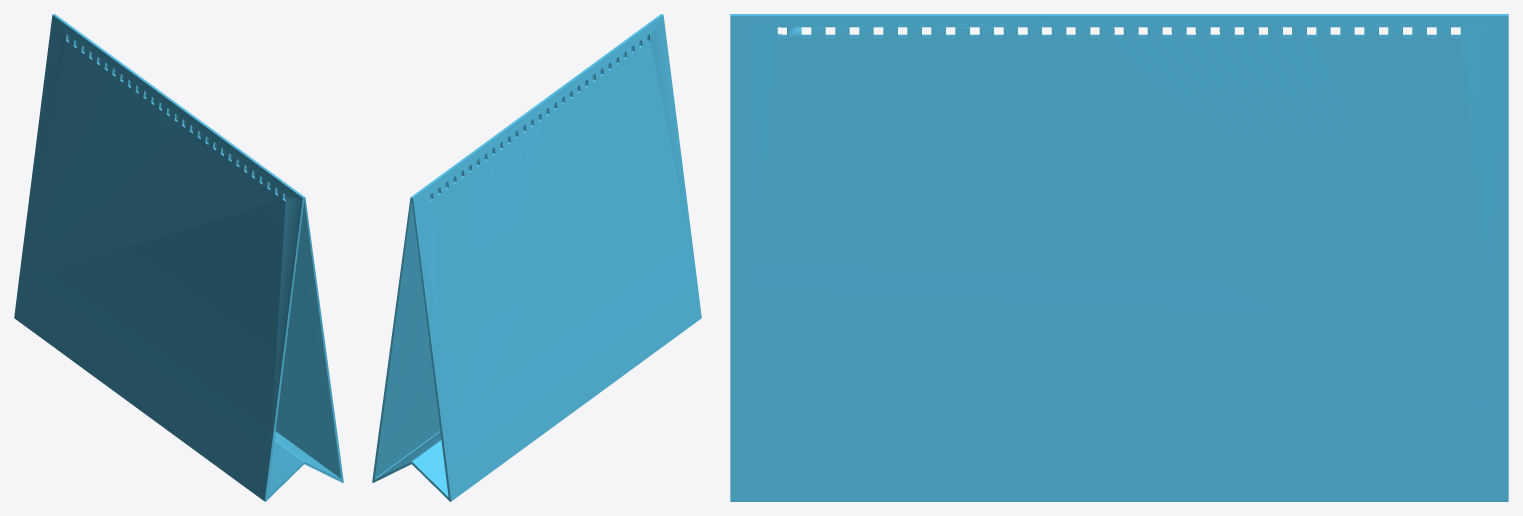
The model's file is paper_taili1.obj.
The picture shows the model from 3 angles, left to right: view 1: azimuth 30°, elevation 25°; view 2: azimuth 150°, elevation 25°; view 3: azimuth 270°, elevation 25°; orthographic projection. The views are drawn at different scales.
Visible parts, largest first — view 1: _taili:O group1; view 2: _taili:O group1; view 3: _taili:O group1.
Part boxes in pixels (x1=…): _taili:O group1: x1=14, y1=14, x2=343, y2=501; _taili:O group1: x1=372, y1=14, x2=701, y2=501; _taili:O group1: x1=730, y1=14, x2=1508, y2=501.
Bounding box in the file's own units: 4.82 × 17.17 × 26.45.
